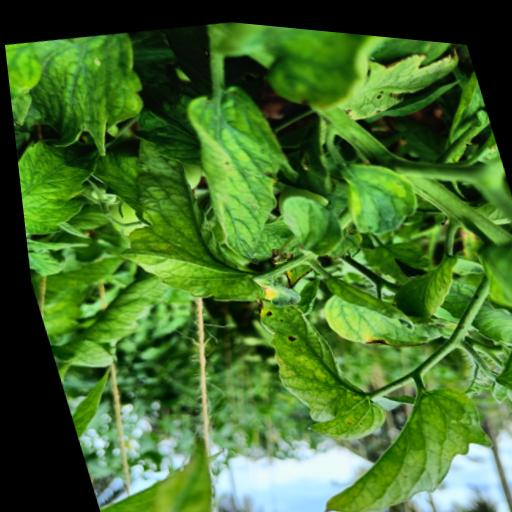Early Blight: (242, 275, 387, 449), (316, 25, 478, 127), (310, 263, 460, 362)
